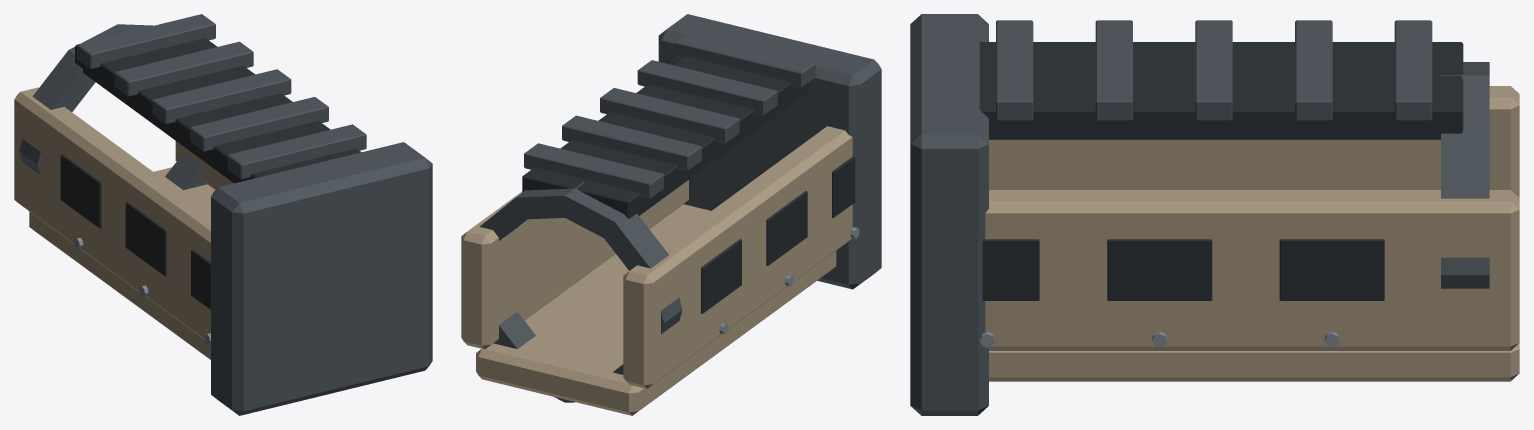
The model's file is att_handguard_reed9.glb.
3 renders of one model, left to right at view 1: azimuth 30°, elevation 25°; view 2: azimuth 150°, elevation 25°; view 3: azimuth 270°, elevation 25°, orthographic. The views are drawn at different scales.
Visible parts, largest first — view 1: Geometry_att_handguard_reed9; view 2: Geometry_att_handguard_reed9; view 3: Geometry_att_handguard_reed9.
Boxes of the visible parts, <box> form: Geometry_att_handguard_reed9: <box>14,14,432,415</box>; Geometry_att_handguard_reed9: <box>461,14,881,415</box>; Geometry_att_handguard_reed9: <box>910,14,1519,415</box>.
Bounding box in the file's own units: 0.0817 × 0.087 × 0.1625.
